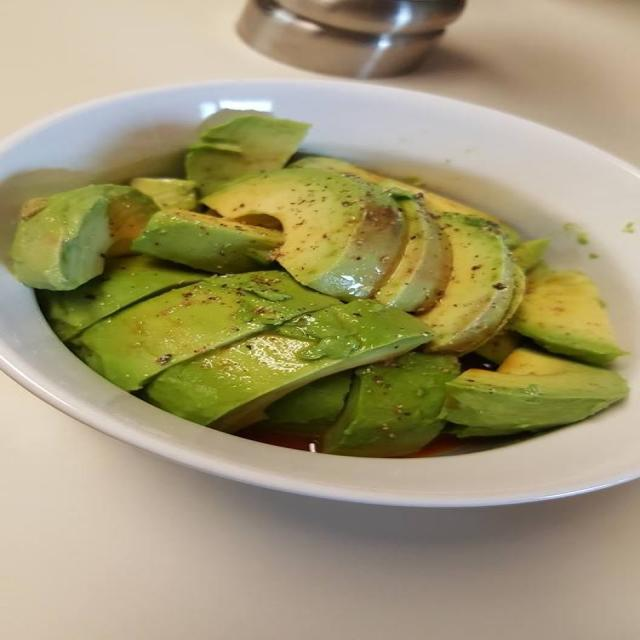avocado: (146, 300, 429, 431), (72, 272, 338, 390), (204, 169, 404, 299), (291, 156, 519, 247), (445, 348, 627, 436), (13, 184, 157, 290), (322, 352, 459, 456), (38, 256, 207, 340), (419, 214, 516, 353), (512, 268, 625, 365), (11, 186, 111, 290), (186, 115, 309, 195), (134, 209, 283, 273), (374, 195, 450, 311), (262, 371, 352, 436), (476, 264, 526, 363), (95, 185, 157, 257), (131, 178, 197, 209), (476, 330, 521, 364), (513, 239, 550, 272), (20, 198, 48, 219)
